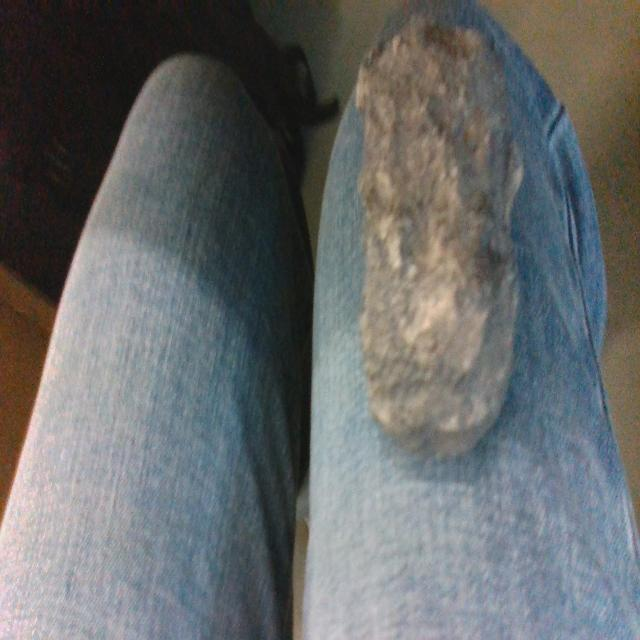stone: (355, 17, 524, 463)
